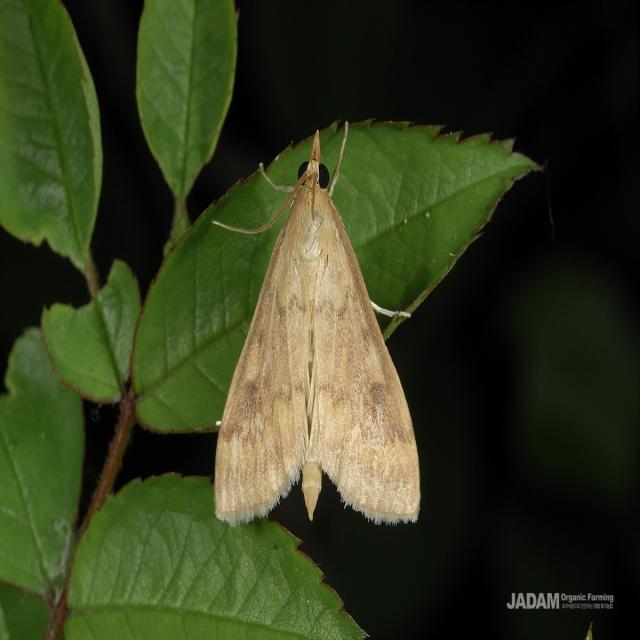cornborer-Adult-: (168, 102, 450, 545)
